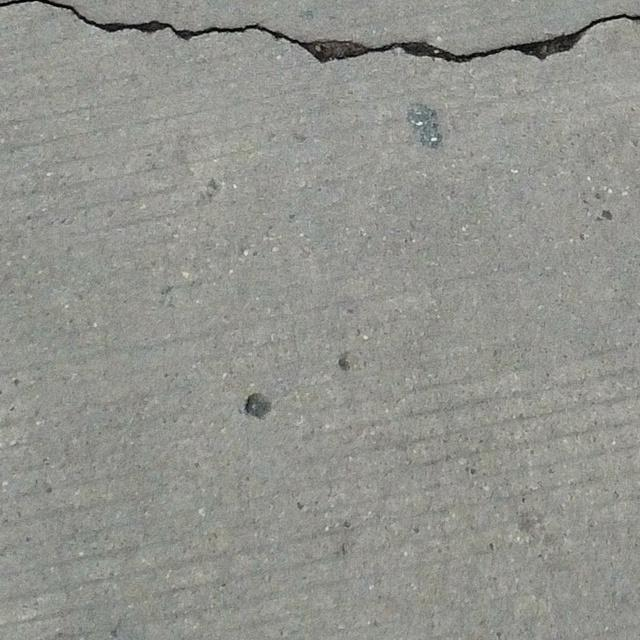TransverseCrack: (1, 1, 640, 64)
